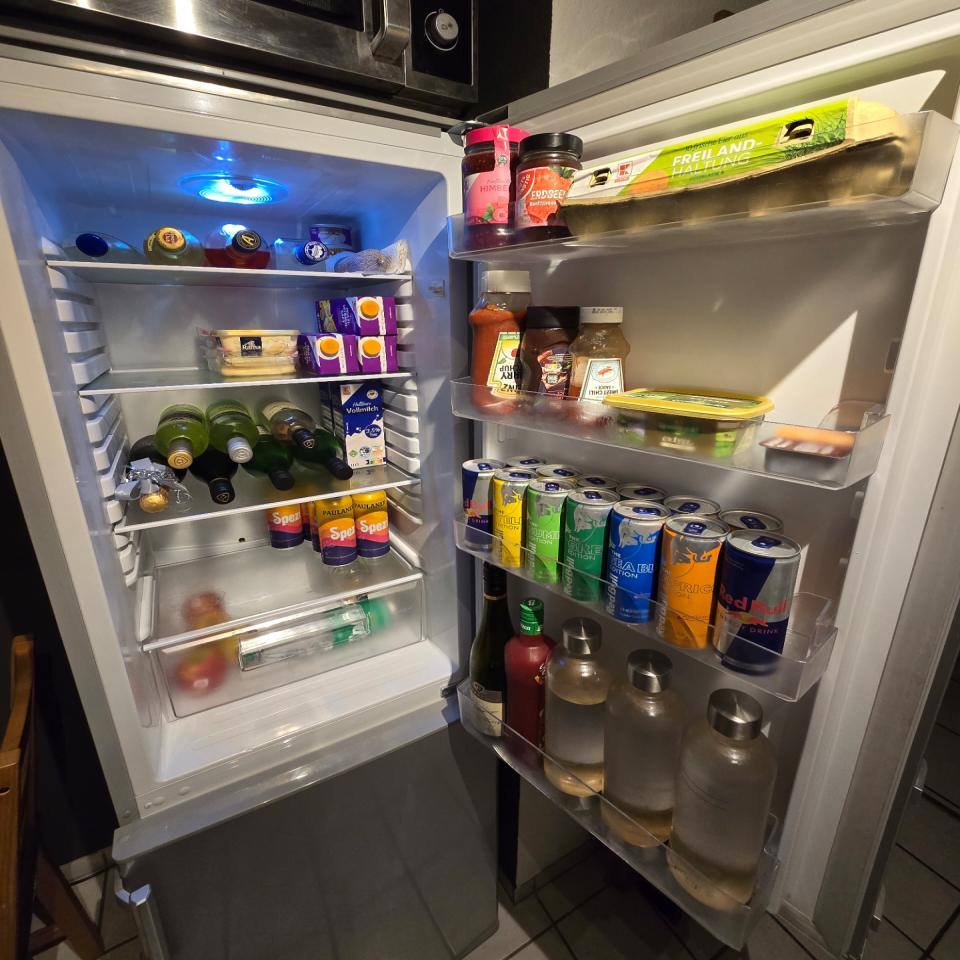Huevos: (562, 96, 920, 240)
Manzana: (174, 647, 225, 696), (180, 590, 227, 622)
ketchup: (469, 270, 532, 415)
